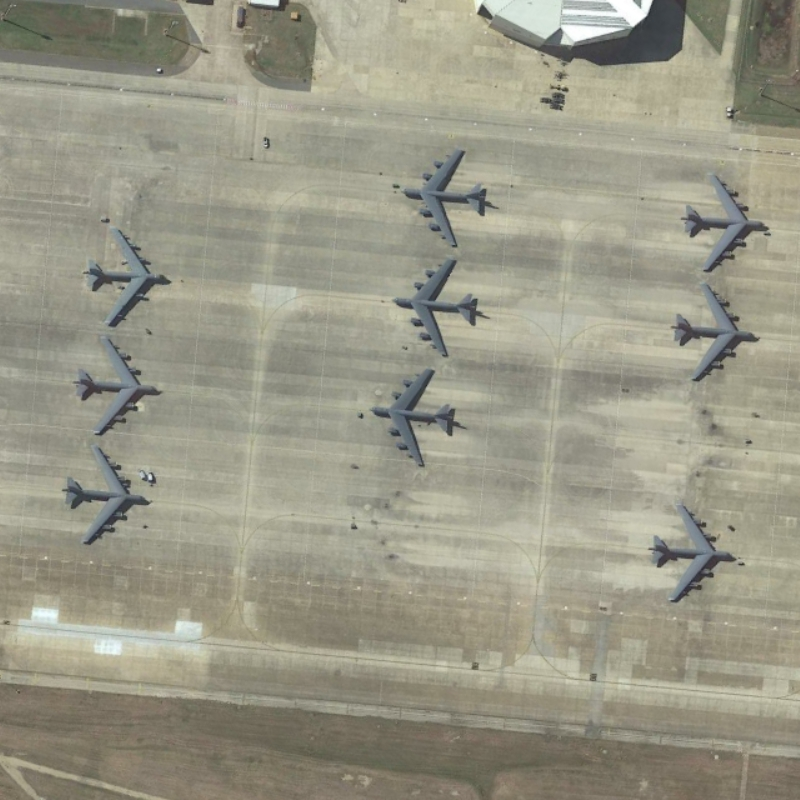A8: (395, 136, 498, 254), (385, 253, 488, 364), (79, 216, 175, 333), (362, 361, 461, 472), (668, 276, 763, 389), (646, 497, 741, 610), (56, 438, 150, 552), (64, 333, 165, 439), (673, 170, 772, 278)
